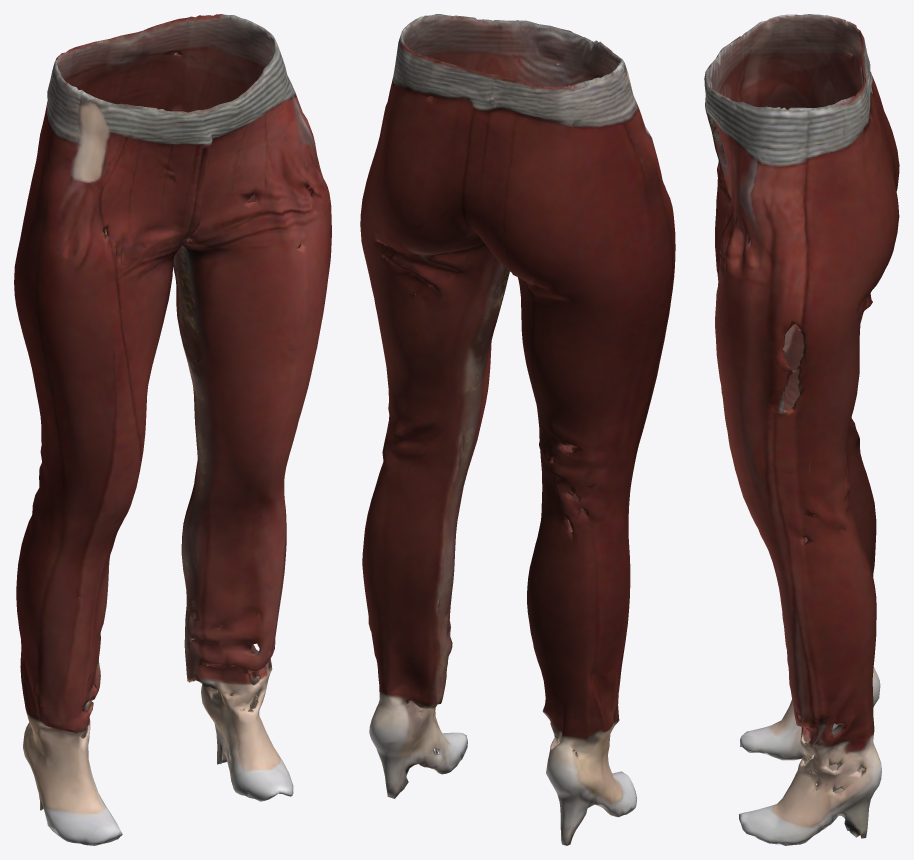
File: modelo.glb
The picture shows the model from 3 angles, left to right: view 1: azimuth 30°, elevation 25°; view 2: azimuth 150°, elevation 25°; view 3: azimuth 270°, elevation 25°; orthographic projection. The views are drawn at different scales.
Bounding box in the file's own units: 0.8258 × 2.03 × 0.4836.
1 material, 1 textured.
